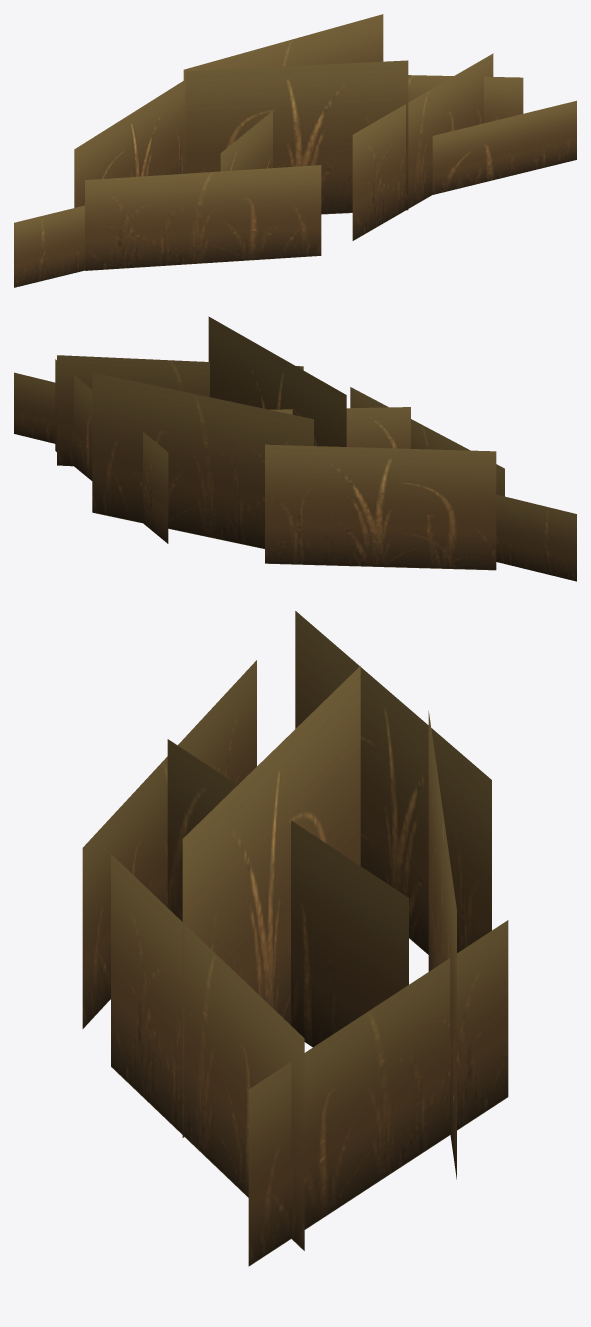
Rendered from fb_lyhg_grass_01.FBX.
The picture shows the model from 3 angles, top to bottom: view 1: azimuth 30°, elevation 25°; view 2: azimuth 150°, elevation 25°; view 3: azimuth 270°, elevation 25°; orthographic projection. The views are drawn at different scales.
Visible parts, largest first — view 1: fb_lyhg_grass_01; view 2: fb_lyhg_grass_01; view 3: fb_lyhg_grass_01.
Boxes of the visible parts, <box> form: fb_lyhg_grass_01: <box>14,14,576,287</box>; fb_lyhg_grass_01: <box>14,316,576,581</box>; fb_lyhg_grass_01: <box>82,611,508,1266</box>.
Size of the model in its own units: 516 by 134 by 172.
